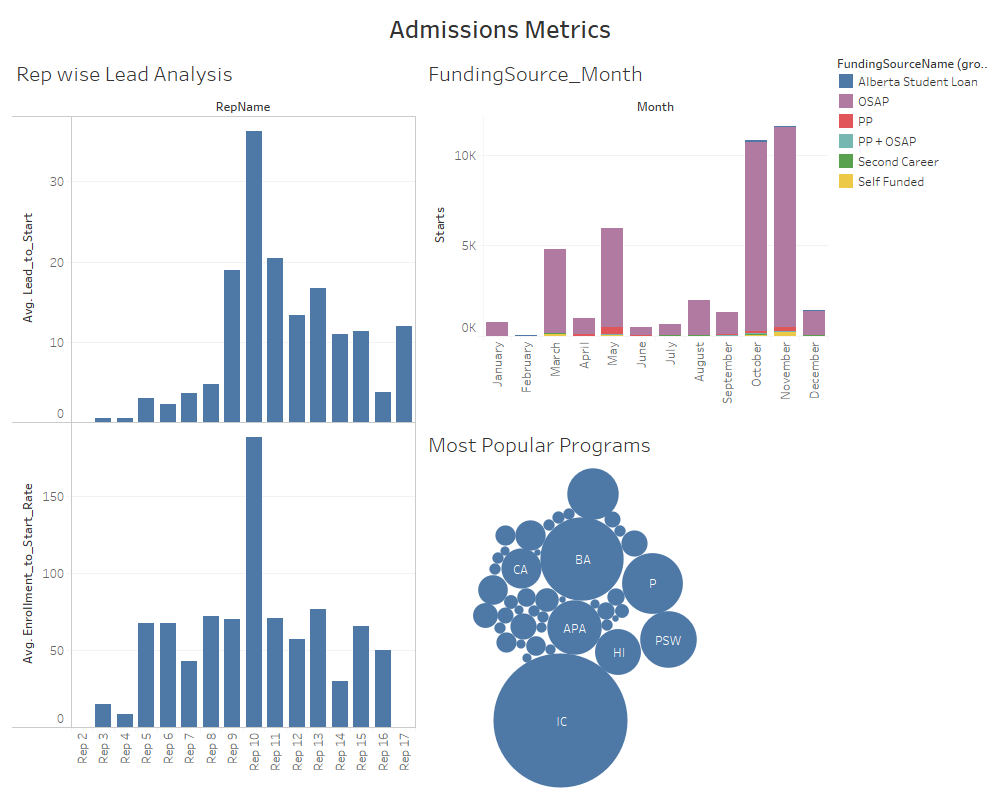

The page's visual inventory and layout, read from the dashboard file:
{"tool":"tableau","page":{"name":"Admissions","canvas":[1000,800],"ordinal":0},"visuals":[{"type":"title","box":[8,8,984,41]},{"type":"worksheet","title":"Rep_Lead","mark":"Automatic","rows":["Lead_to_Start","Enrollment_to_Start_Rate"],"cols":["RepName"],"box":[8,49,412,743]},{"type":"worksheet","title":"FundingSource_Month","mark":"Automatic","rows":["Starts"],"cols":["Month"],"box":[420,49,412,371.5]},{"type":"legend","title":"FundingSource_Month","param":"[federated.1fjcrgo03ovbi61glfhax1vgbg48].[FundingSourceName (group)]","box":[832,49,160,146]},{"type":"worksheet","title":"Program","mark":"Circle","box":[420,420.5,412,371.5]}]}

Visuals, with their boxes in screenshot pixels (x1, y1, x2, y2), scaled from the page's 1000x800 canvas onto the 1000x800 screenshot:
title: (8,8,992,49)
"Rep_Lead" worksheet: (8,49,420,792)
"FundingSource_Month" worksheet: (420,49,832,420)
"FundingSource_Month" legend: (832,49,992,195)
"Program" worksheet (Circle marks): (420,420,832,792)
